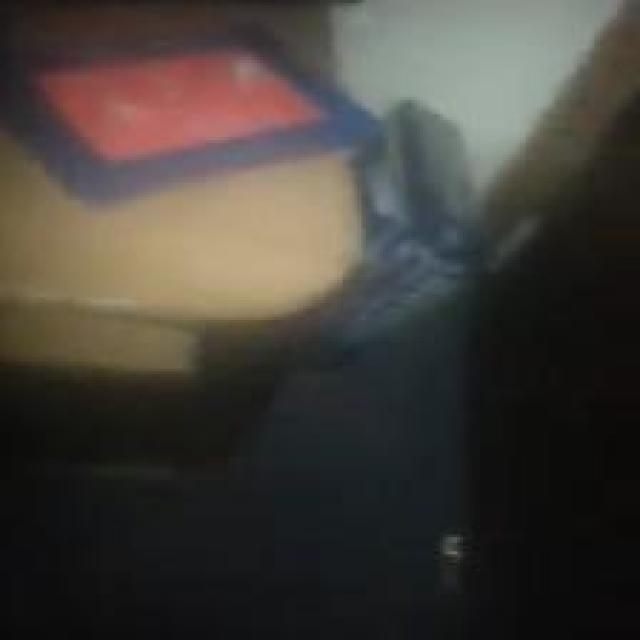other: (33, 57, 341, 155)
